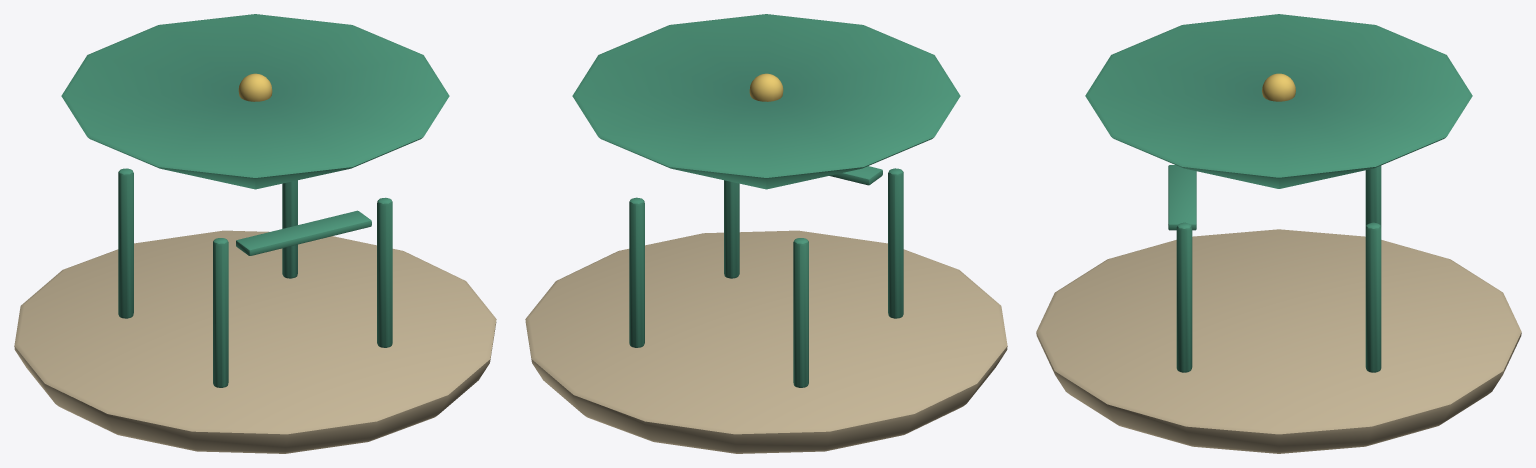
The picture shows the model from 3 angles, left to right: view 1: azimuth 30°, elevation 25°; view 2: azimuth 150°, elevation 25°; view 3: azimuth 270°, elevation 25°; orthographic projection.
Parts seen in each view (by area): view 1: landmark_e9489952; view 2: landmark_e9489952; view 3: landmark_e9489952.
Part boxes in pixels (left/top/right/bottom): landmark_e9489952: left=14, top=14, right=496, bottom=453; landmark_e9489952: left=525, top=14, right=1007, bottom=453; landmark_e9489952: left=1036, top=14, right=1521, bottom=453.
Size of the model in its own units: 5.13 by 3.33 by 5.13.
